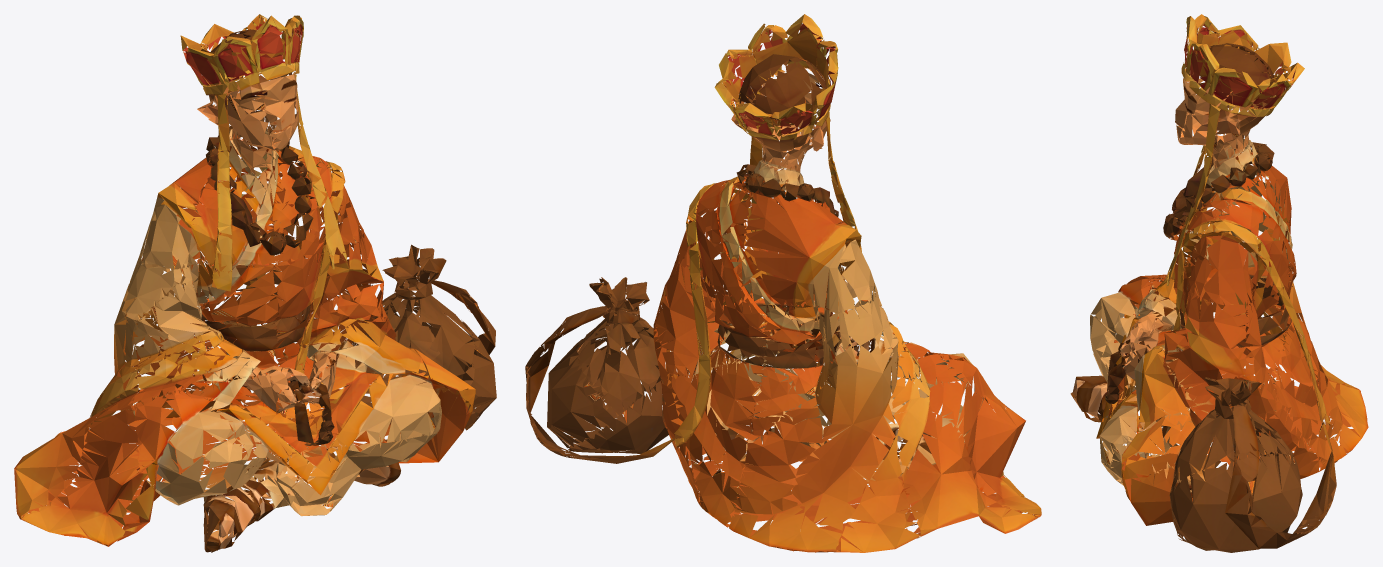
Rendered from monk_sitting.glb.
3 views of the same model, side by side, from view 1: azimuth 30°, elevation 25°; view 2: azimuth 150°, elevation 25°; view 3: azimuth 270°, elevation 25° (orthographic). The views are drawn at different scales.
Parts seen in each view (by area): view 1: geometry_0; view 2: geometry_0; view 3: geometry_0.
Part boxes in pixels (box(x1,y1,x2,y2)): geometry_0: box(14, 14, 496, 552); geometry_0: box(525, 14, 1041, 552); geometry_0: box(1070, 14, 1368, 552).
Bounding box in the file's own units: 0.9926 × 0.9 × 0.5375.
Materials: 1 (1 with a texture image).
